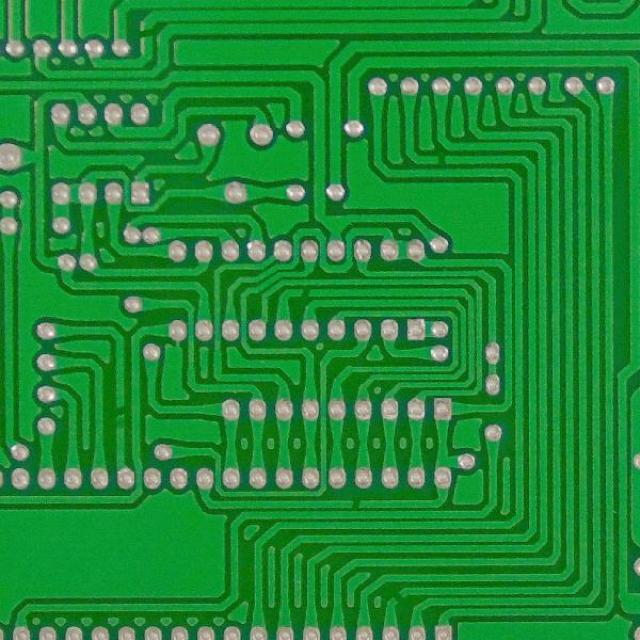Open_Circuit: (109, 397, 130, 428), (133, 22, 157, 45), (385, 586, 408, 610), (429, 147, 453, 169), (294, 283, 316, 302), (346, 494, 367, 510)
